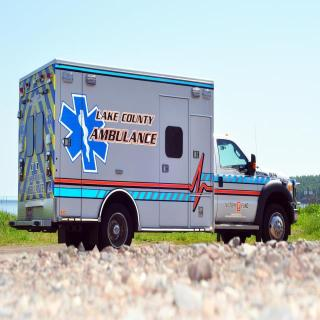Ambulance: (15, 54, 303, 255)
